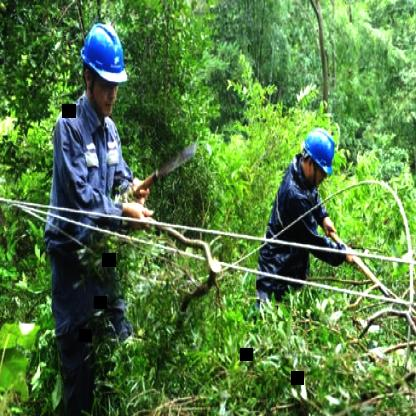helmet: (74, 15, 132, 117), (295, 126, 339, 192)
